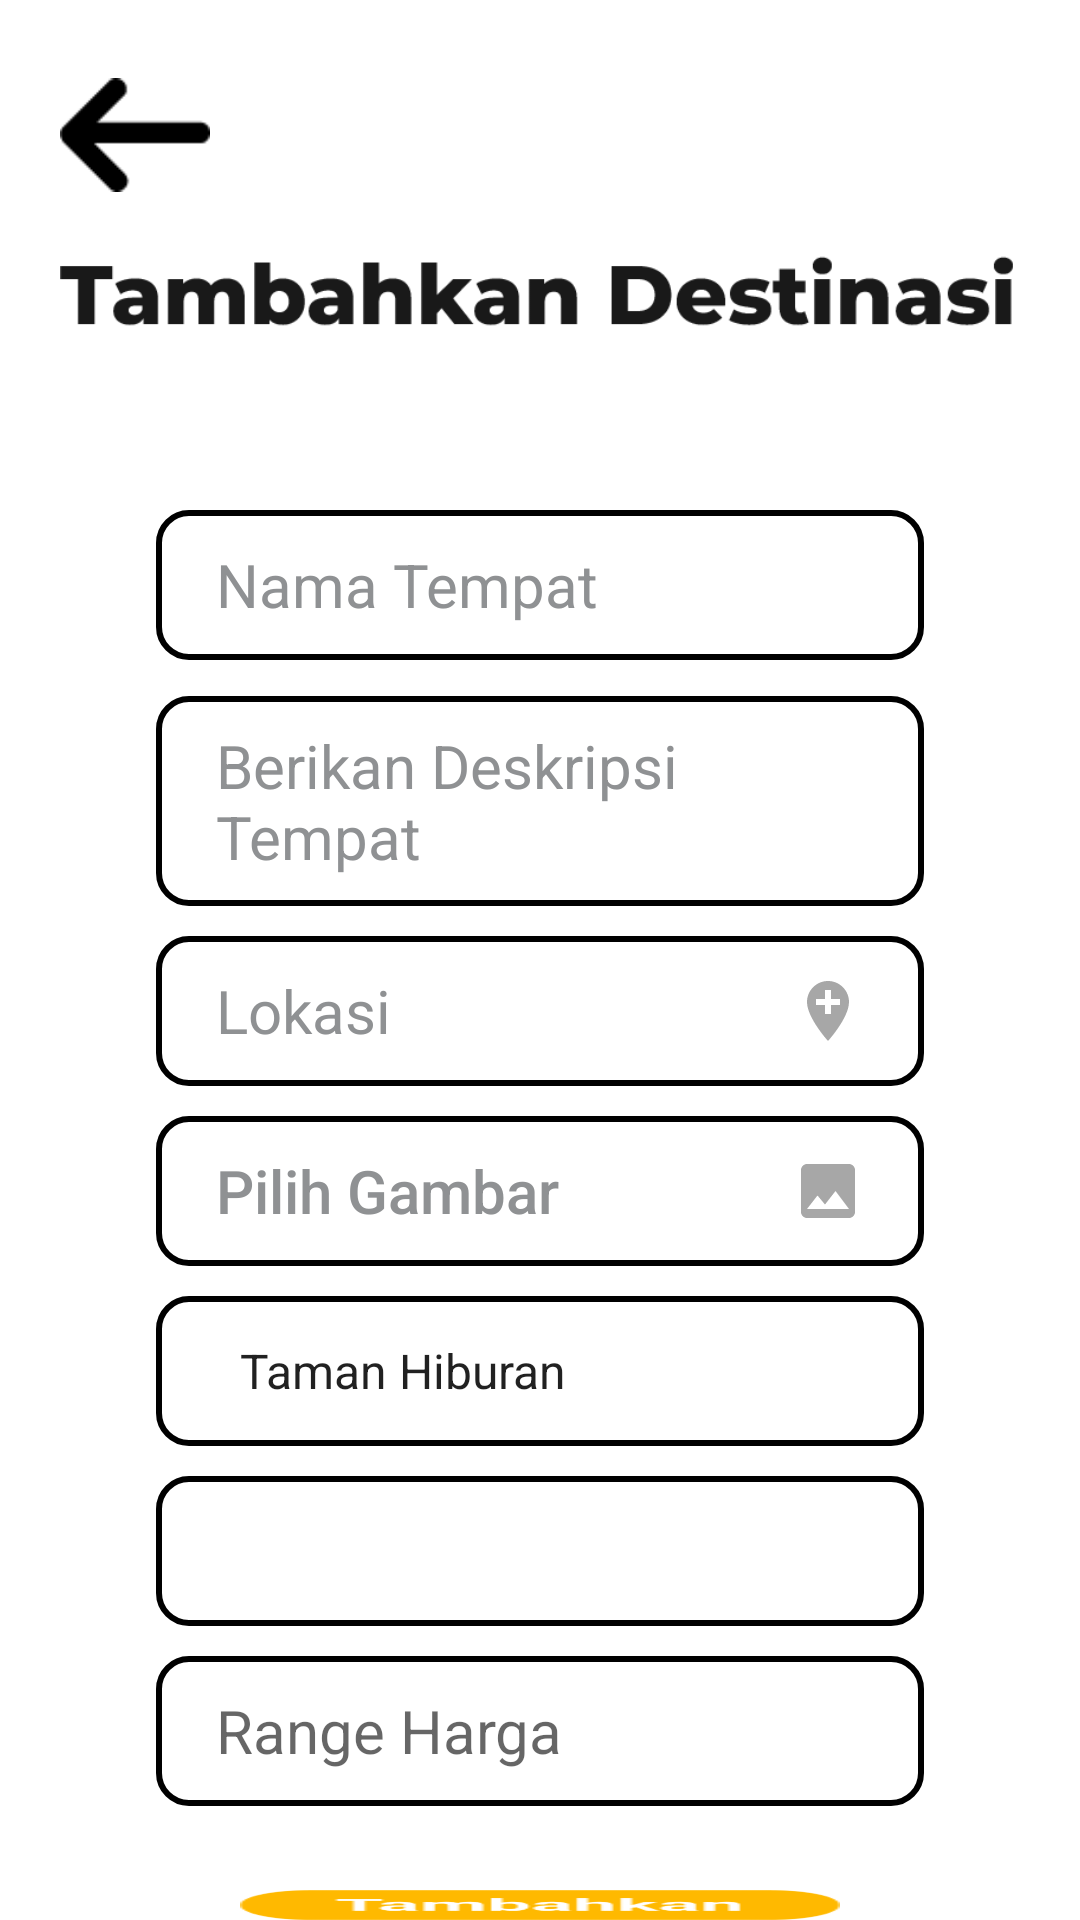

Point at icon controls on the screen. Image size 1080x1920, points as (x=x, y=y).
back: (x=135, y=135)
